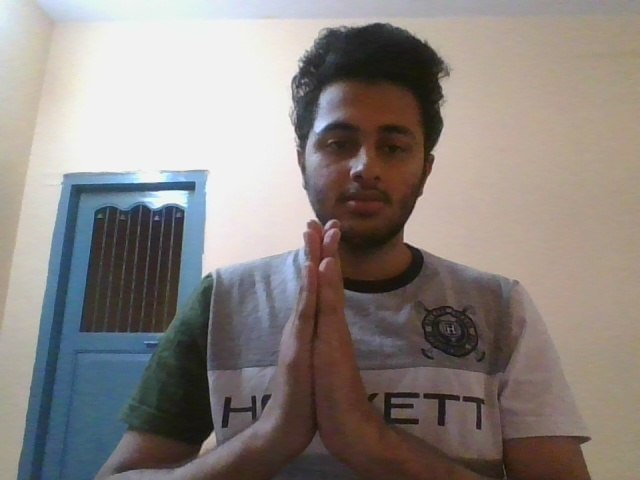Namaskara: (265, 215, 382, 460)
